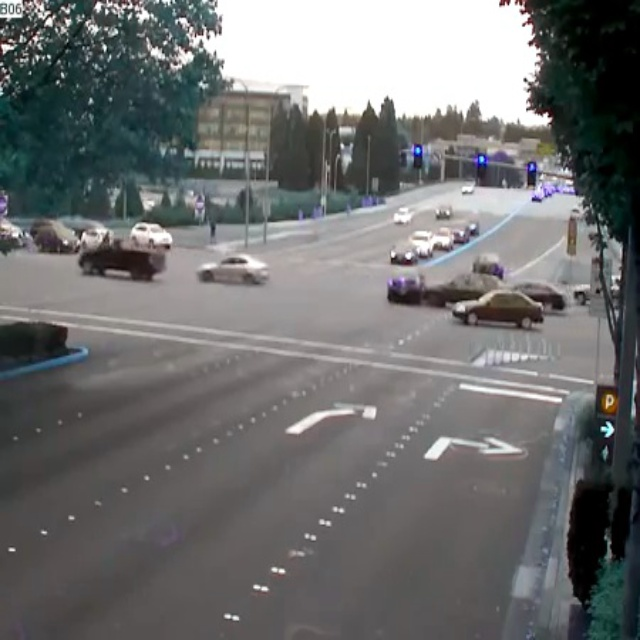acc: (386, 263, 456, 314)
